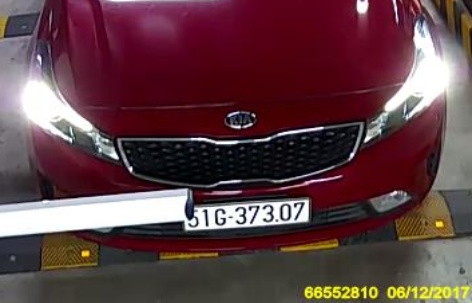plate: (187, 195, 312, 228)
